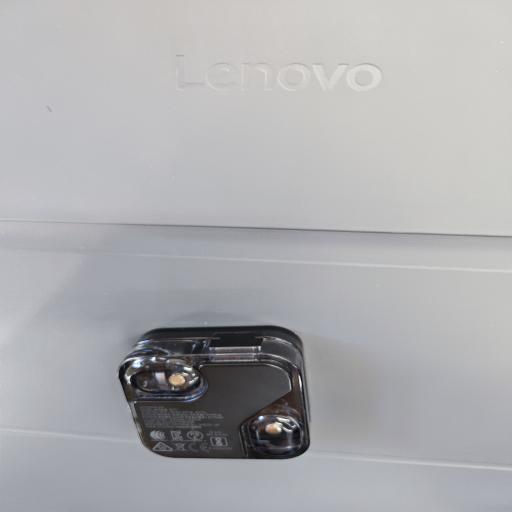CASTI: (111, 322, 317, 467)
